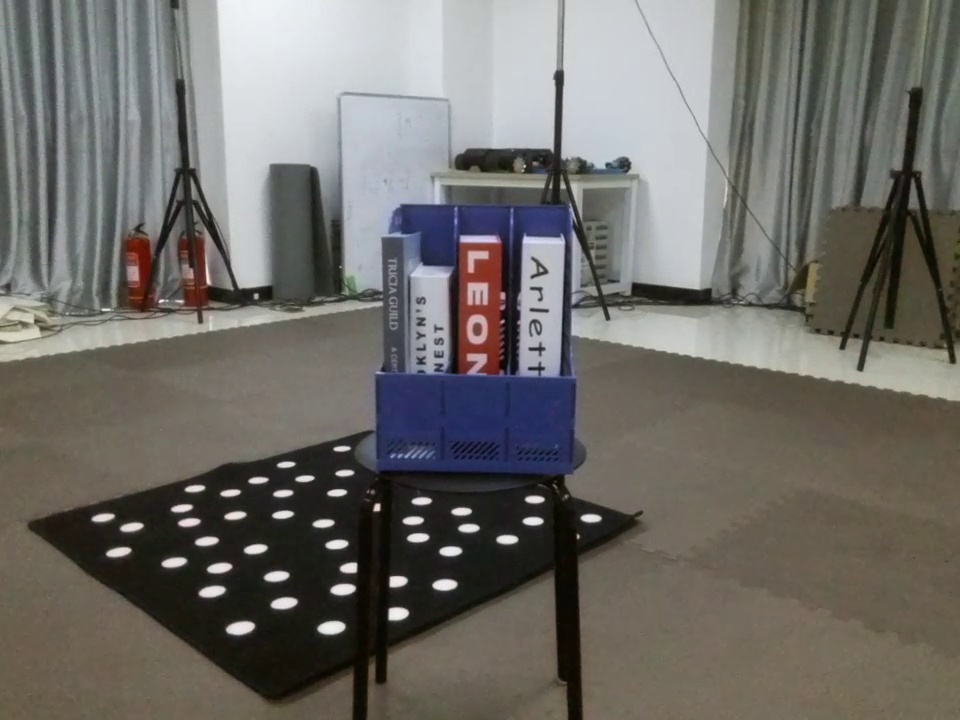files: (363, 192, 589, 480)
